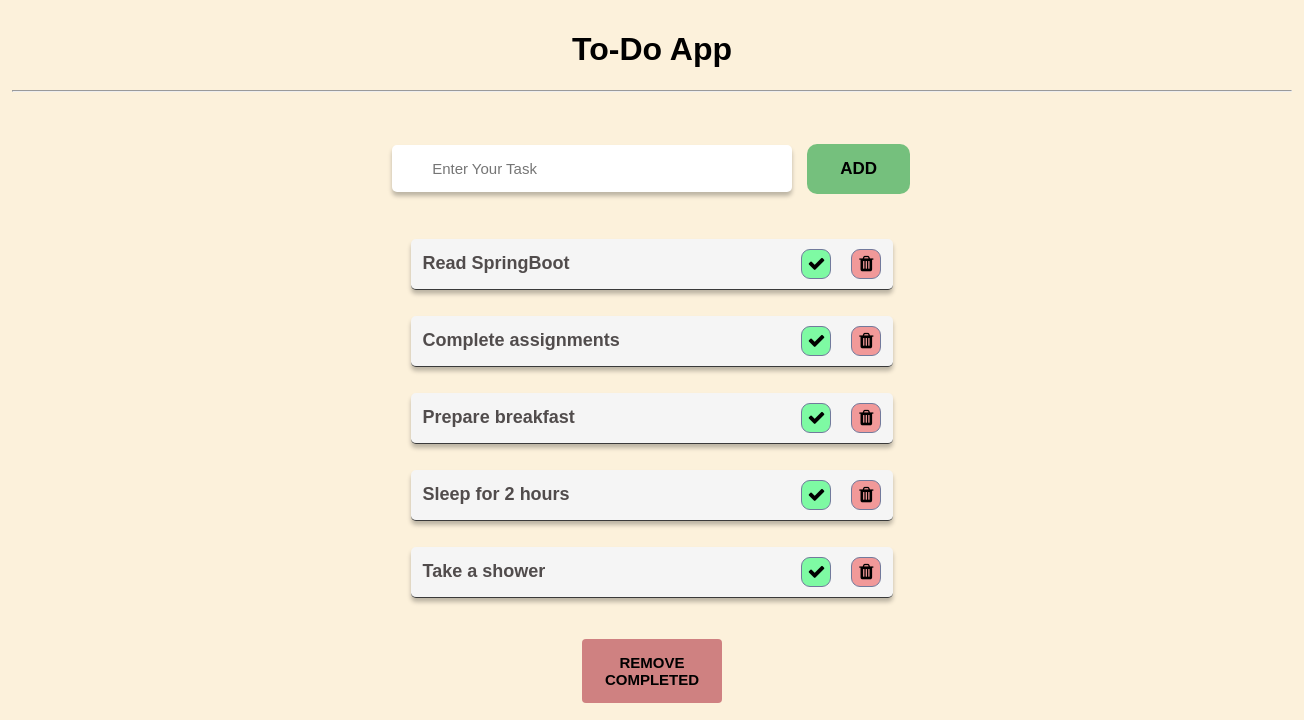
Test: Testing mark as completed and remove completed task functionality › should display correct TodoList after marking the task as completed and removing it
The image size is (1304, 720).
Click the 2nd button with test id "donetask-button" at (816, 341), box [801,326,831,356]
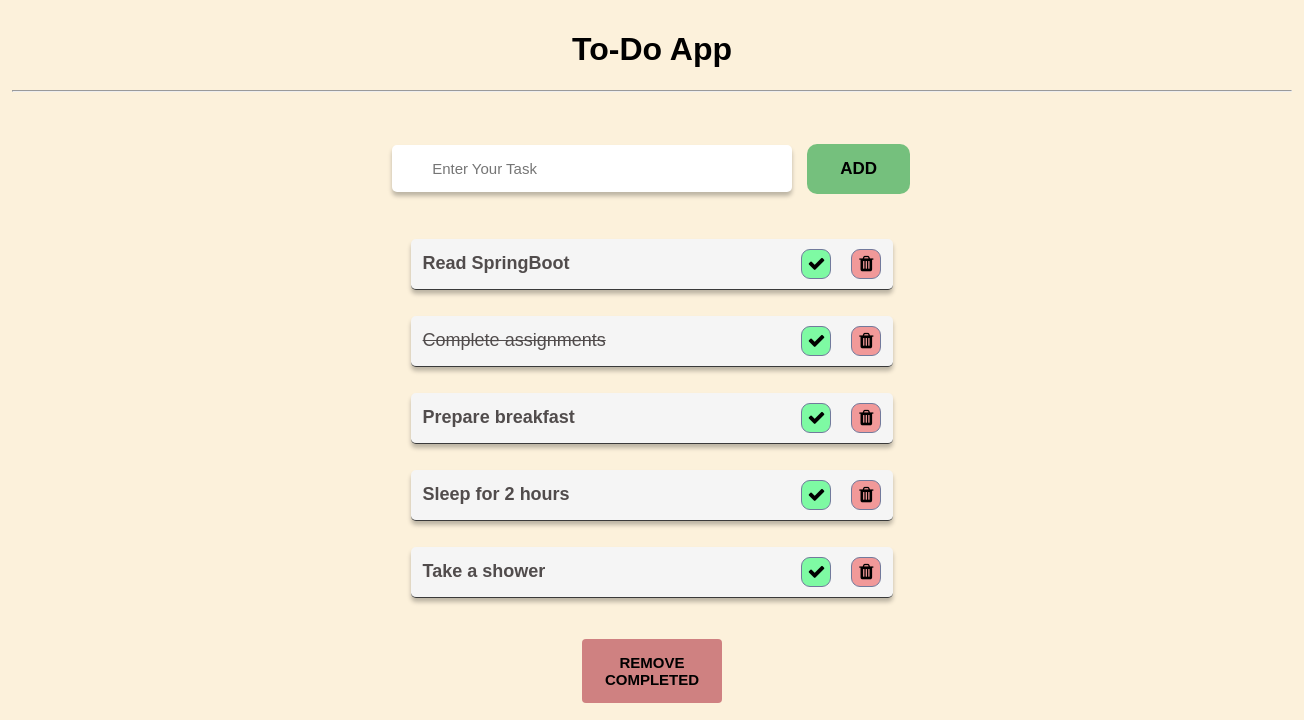
Click the button with test id "remove-completed" at (652, 671), box [582,639,722,703]
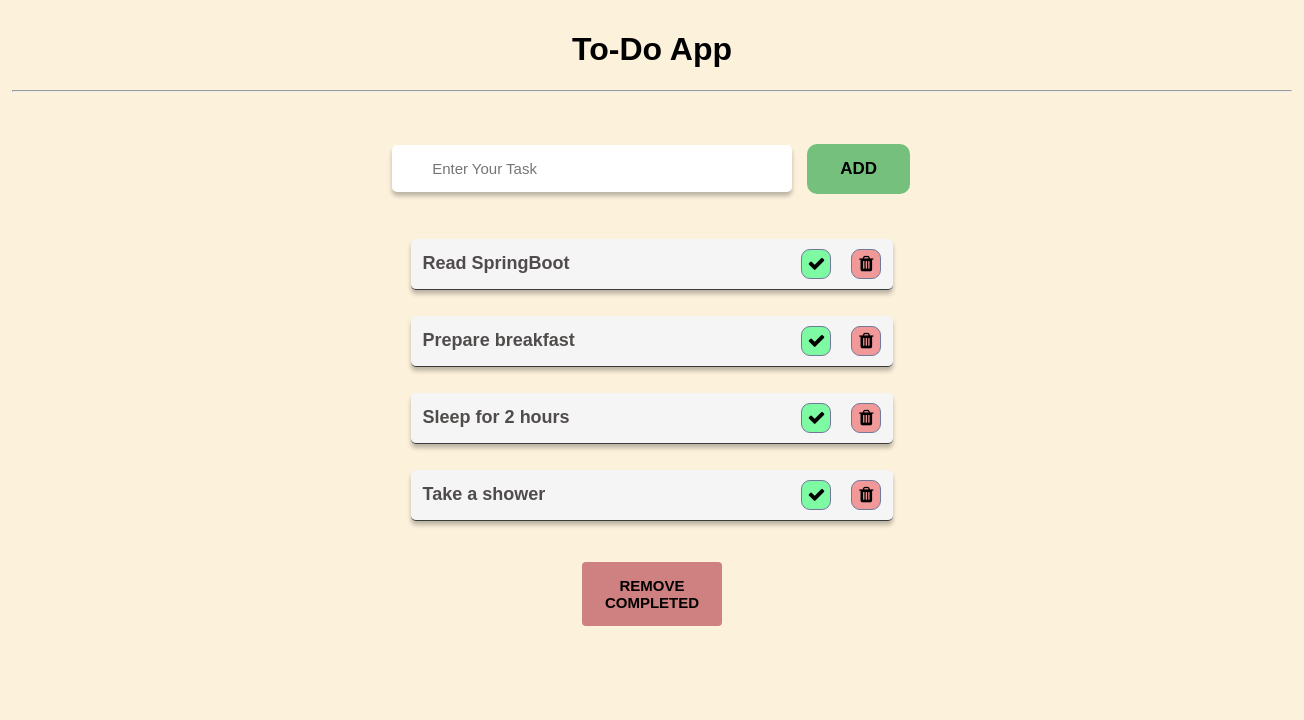
Expected: the list item with test id "todolist" reads "Read SpringBoot", [423,253,570,273]
Result: the number of list items with test id "todolist" is 4 at [411,239,893,290]; [411,316,893,367]; [411,393,893,444]; [411,470,893,521]
